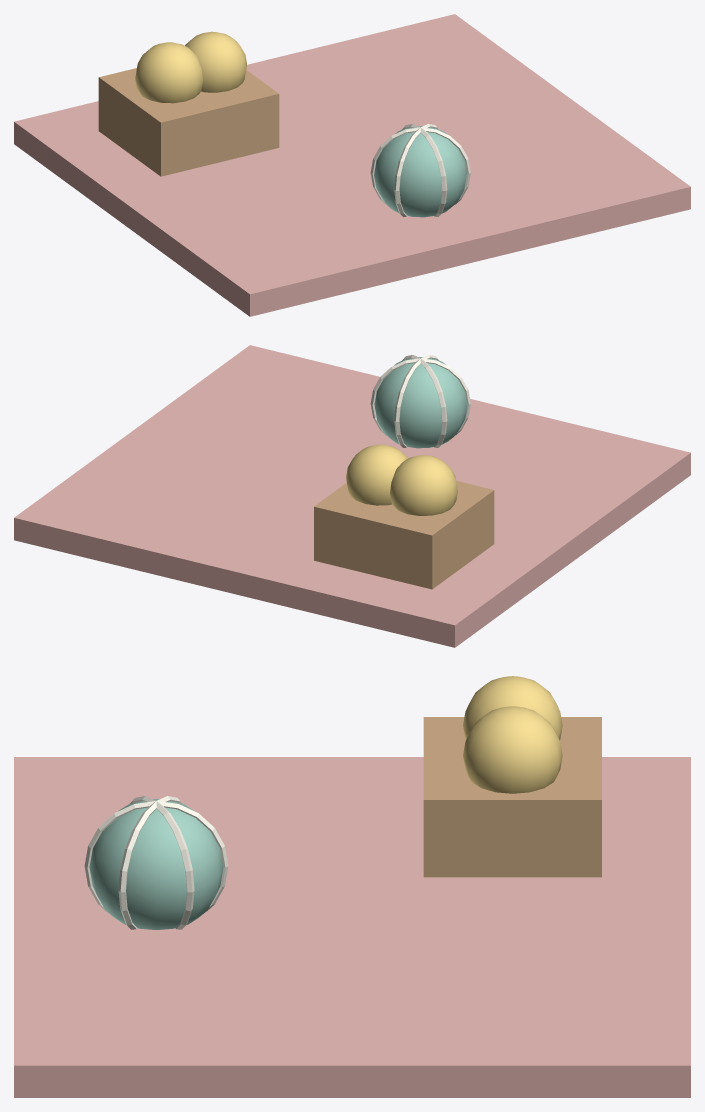
File: yarn.glb
3 renders of one model, top to bottom at view 1: azimuth 30°, elevation 25°; view 2: azimuth 150°, elevation 25°; view 3: azimuth 270°, elevation 25°, orthographic. The views are drawn at different scales.
Visible parts, largest first — view 1: soft play mat.001, yarn basket, spare yarn, rolling ball, Torus.014; view 2: soft play mat.001, yarn basket, spare yarn, rolling ball, Torus.014; view 3: soft play mat.001, yarn basket, rolling ball, spare yarn, Torus.014.
Part boxes in pixels (box(x1,y1,x2,y2)): soft play mat.001: box(14, 14, 690, 316); yarn basket: box(98, 68, 279, 176); spare yarn: box(135, 31, 246, 103); rolling ball: box(374, 126, 466, 217); Torus.014: box(370, 124, 470, 216); soft play mat.001: box(14, 345, 690, 647); yarn basket: box(314, 481, 494, 589); spare yarn: box(346, 444, 457, 515); rolling ball: box(374, 357, 467, 448); Torus.014: box(370, 355, 470, 447); soft play mat.001: box(14, 757, 690, 1097); yarn basket: box(423, 717, 601, 877); rolling ball: box(89, 799, 223, 929); spare yarn: box(463, 676, 562, 793); Torus.014: box(84, 796, 228, 929).
Bounding box in the file's own units: 2.05 × 0.54 × 1.9.
